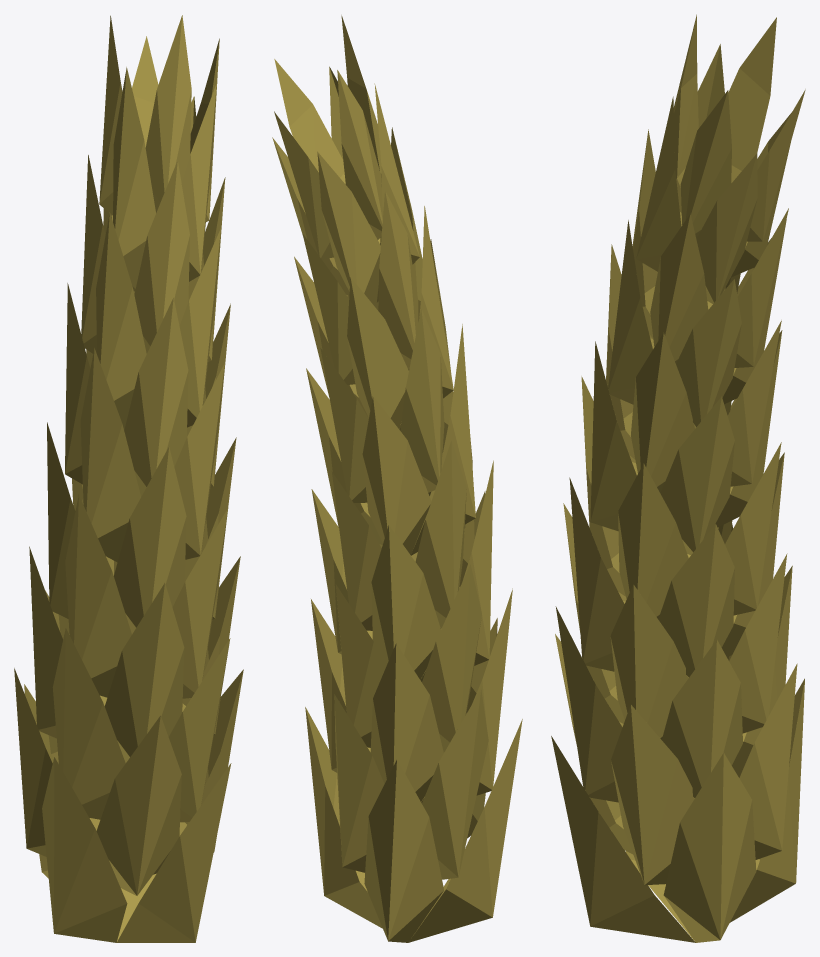
The model's file is wheat_Grains.fbx.
3 views of the same model, side by side, from view 1: azimuth 30°, elevation 25°; view 2: azimuth 150°, elevation 25°; view 3: azimuth 270°, elevation 25° (orthographic). The views are drawn at different scales.
Visible parts, largest first — view 1: Wheat_grains; view 2: Wheat_grains; view 3: Wheat_grains.
Part boxes in pixels (x1,y1,x2,y2): Wheat_grains: (14,15,243,942); Wheat_grains: (272,15,522,942); Wheat_grains: (551,14,805,942).
Size of the model in its own units: 6.04 by 25.45 by 6.1.
